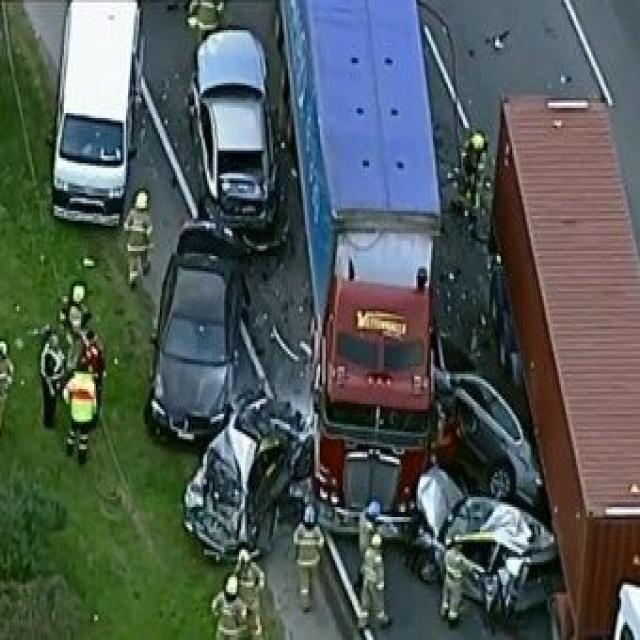traffic_incident: (173, 351, 320, 570), (407, 439, 562, 633), (188, 28, 294, 251), (139, 203, 239, 437), (422, 326, 555, 499)
